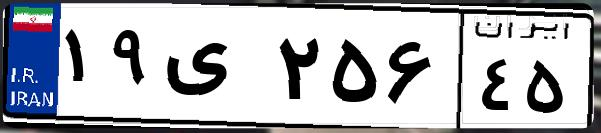1: (57, 26, 110, 100)
2: (270, 28, 330, 110)
4: (475, 38, 525, 113)
5: (330, 28, 385, 110), (525, 38, 570, 115)
6: (385, 28, 445, 110)
9: (110, 28, 158, 98)
ی: (158, 20, 270, 120)
